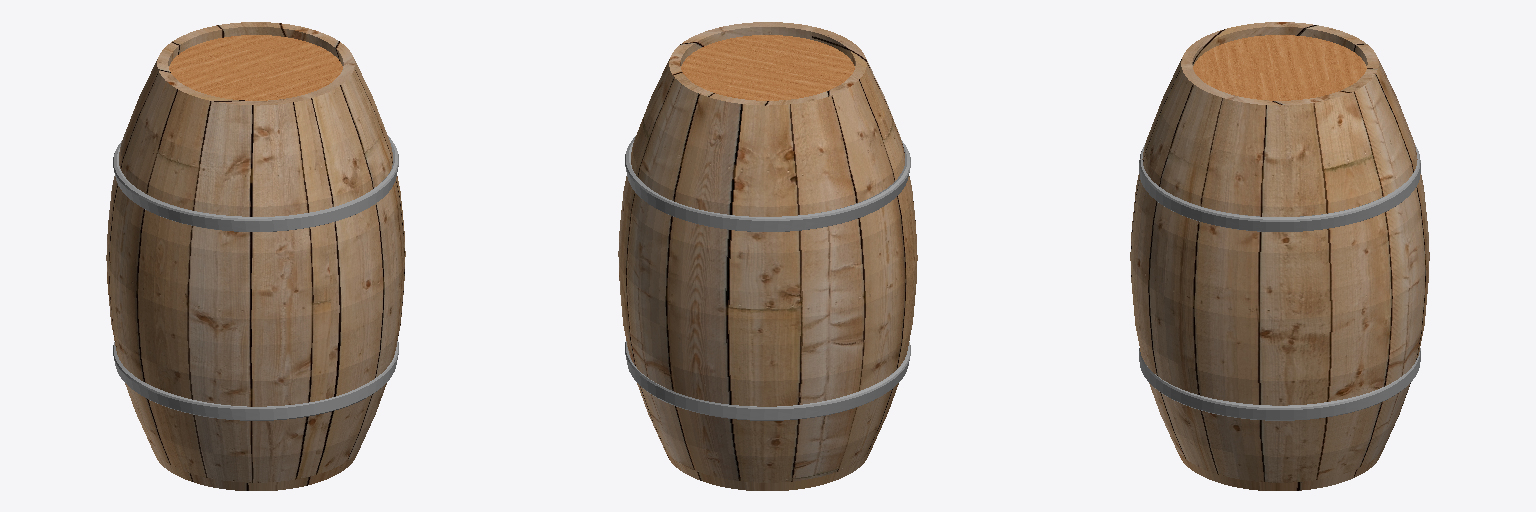
3 views of the same model, side by side, from view 1: azimuth 30°, elevation 25°; view 2: azimuth 150°, elevation 25°; view 3: azimuth 270°, elevation 25° (orthographic).
Visible parts, largest first — view 1: Cylinder.011_0, Cylinder.012_0, Cylinder.015_0, Cylinder.013_0; view 2: Cylinder.011_0, Cylinder.012_0, Cylinder.015_0, Cylinder.013_0; view 3: Cylinder.011_0, Cylinder.012_0, Cylinder.015_0, Cylinder.013_0.
Part boxes in pixels (x1,y1,x2,y2): Cylinder.011_0: (106, 22, 405, 490); Cylinder.012_0: (169, 35, 342, 100); Cylinder.015_0: (113, 136, 398, 231); Cylinder.013_0: (113, 341, 398, 420); Cylinder.011_0: (618, 22, 917, 490); Cylinder.012_0: (681, 35, 854, 100); Cylinder.015_0: (625, 136, 910, 231); Cylinder.013_0: (625, 341, 910, 420); Cylinder.011_0: (1130, 22, 1429, 490); Cylinder.012_0: (1193, 35, 1366, 100); Cylinder.015_0: (1139, 145, 1420, 231); Cylinder.013_0: (1139, 348, 1420, 420).
Size of the model in its own units: 3.82 by 5.42 by 3.82.
Materials: 3 (2 with a texture image).